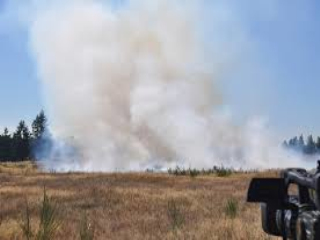smoke: (29, 15, 296, 171)
